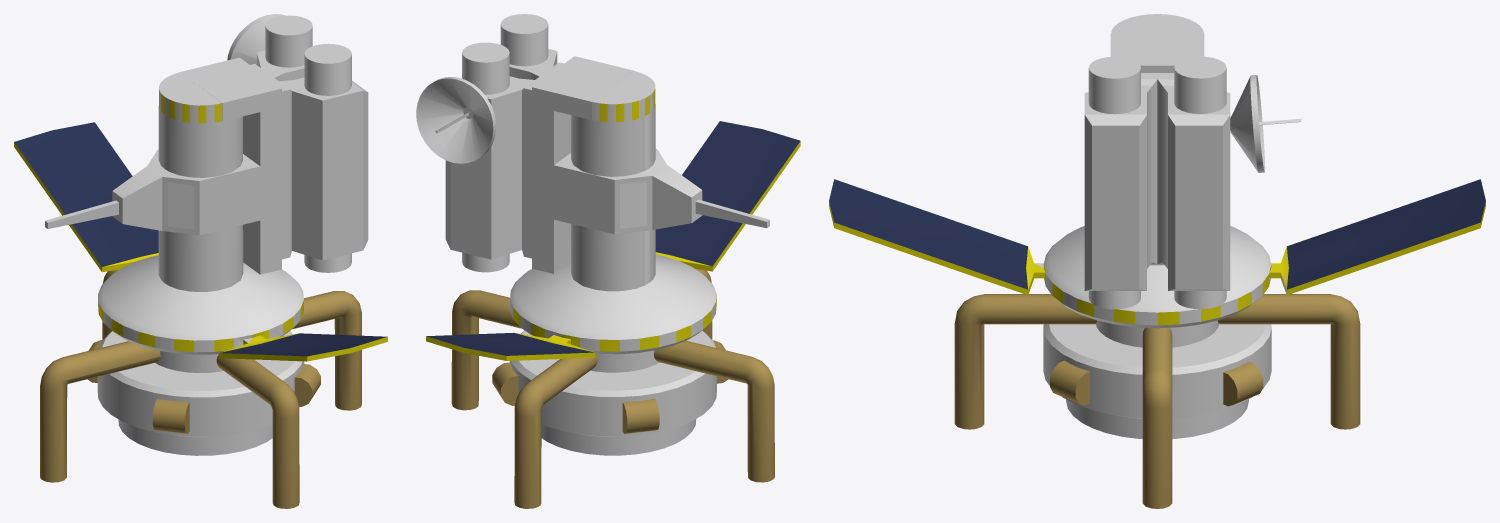
Rendered from Charger.fbx.
3 renders of one model, left to right at view 1: azimuth 30°, elevation 25°; view 2: azimuth 150°, elevation 25°; view 3: azimuth 270°, elevation 25°, orthographic. The views are drawn at different scales.
Visible parts, largest first — view 1: Charger_main, Charger_up; view 2: Charger_main, Charger_up; view 3: Charger_main, Charger_up.
Boxes of the visible parts, box(x1,y1,x2,y2) form: Charger_main: box(14, 106, 387, 508); Charger_up: box(45, 14, 368, 274); Charger_main: box(426, 104, 800, 508); Charger_up: box(416, 14, 769, 273); Charger_main: box(829, 179, 1485, 508); Charger_up: box(1084, 14, 1301, 309).
Size of the model in its own units: 248 by 280 by 402.
